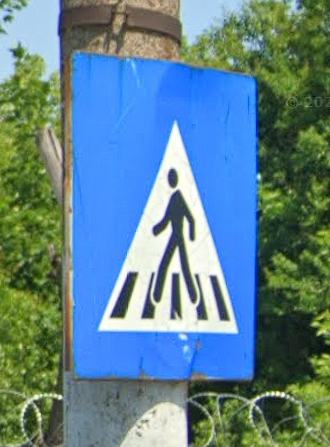trecere_pietoni: (61, 45, 261, 384)
